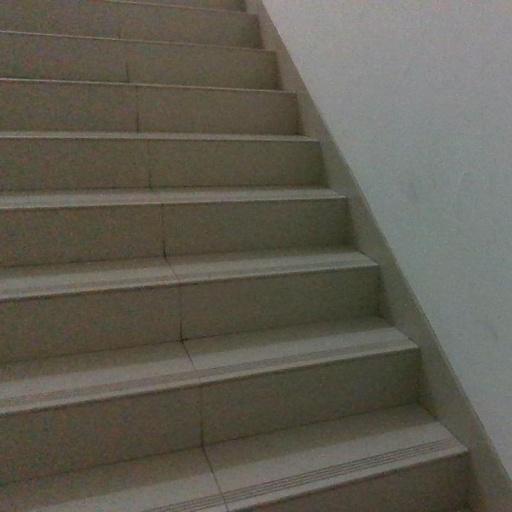Stairs: (0, 0, 470, 512)
